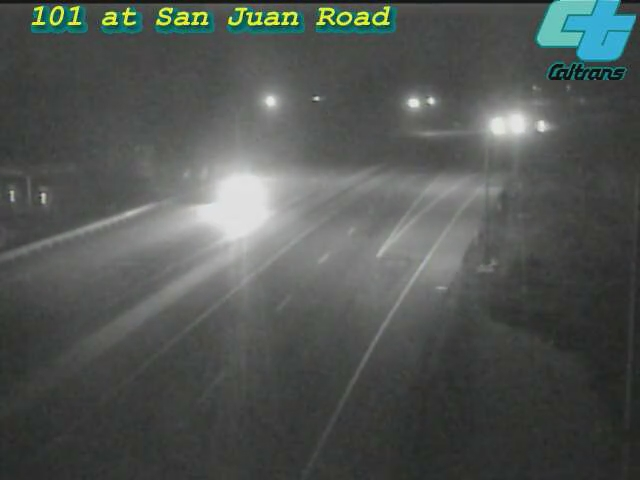vehicle: (199, 153, 279, 233), (516, 103, 566, 153), (470, 102, 520, 152), (494, 98, 544, 148)
